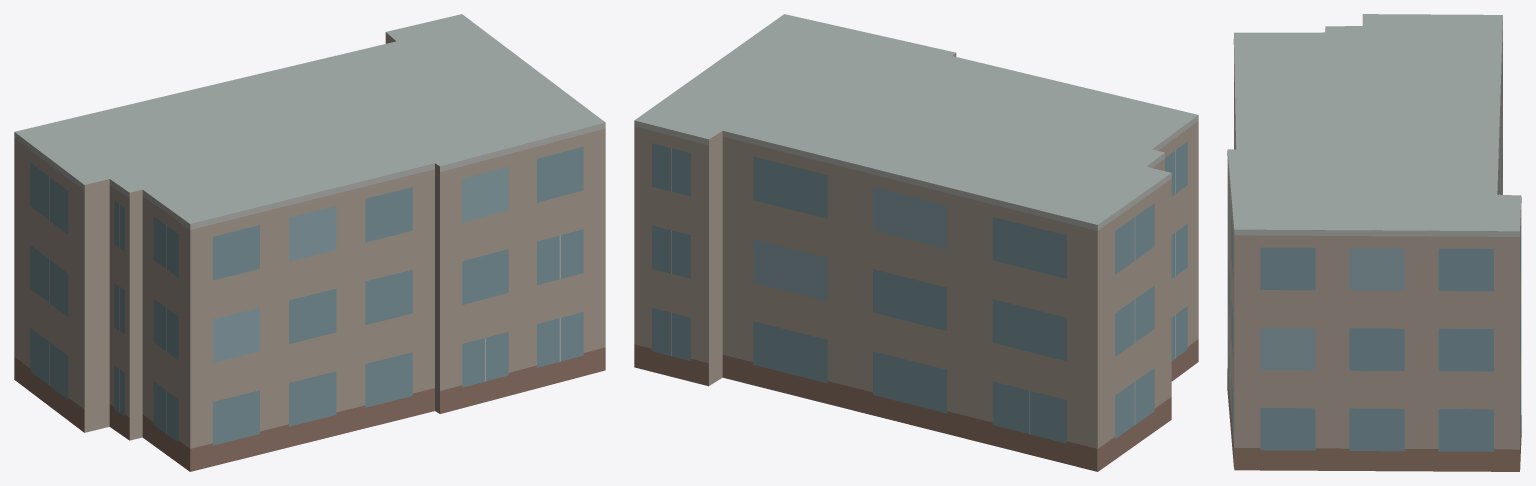
File: survey-upis-32659992.glb
3 renders of one model, left to right at view 1: azimuth 30°, elevation 25°; view 2: azimuth 150°, elevation 25°; view 3: azimuth 270°, elevation 25°, orthographic. The views are drawn at different scales.
Parts seen in each view (by area): view 1: survey-upis-32659992.tmp; view 2: survey-upis-32659992.tmp; view 3: survey-upis-32659992.tmp.
Boxes of the visible parts, bbox=[...] form: survey-upis-32659992.tmp: bbox=[14, 14, 605, 471]; survey-upis-32659992.tmp: bbox=[634, 14, 1198, 471]; survey-upis-32659992.tmp: bbox=[1227, 14, 1521, 471].
Bounding box in the file's own units: 19.76 × 10.2 × 11.3.
